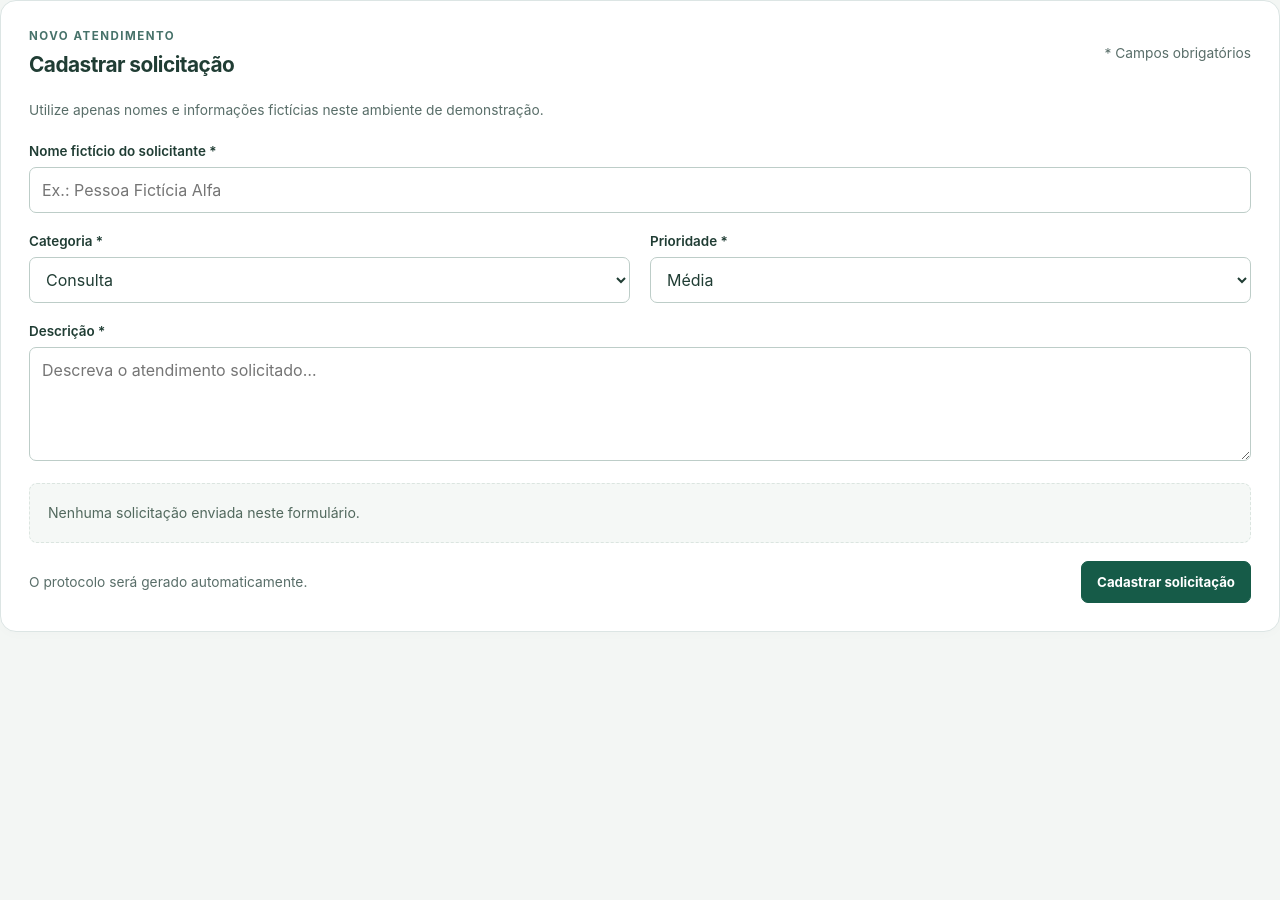
Scenario: SolicitacaoForm › mostra erro 422 junto do campo e preserva valores
Type "Pessoa Fictícia Alfa" into the field labelled "Nome fictício do solicitante *".
click(640, 190); type("Pessoa Fictícia Alfa")  # box [29,167,1251,213]
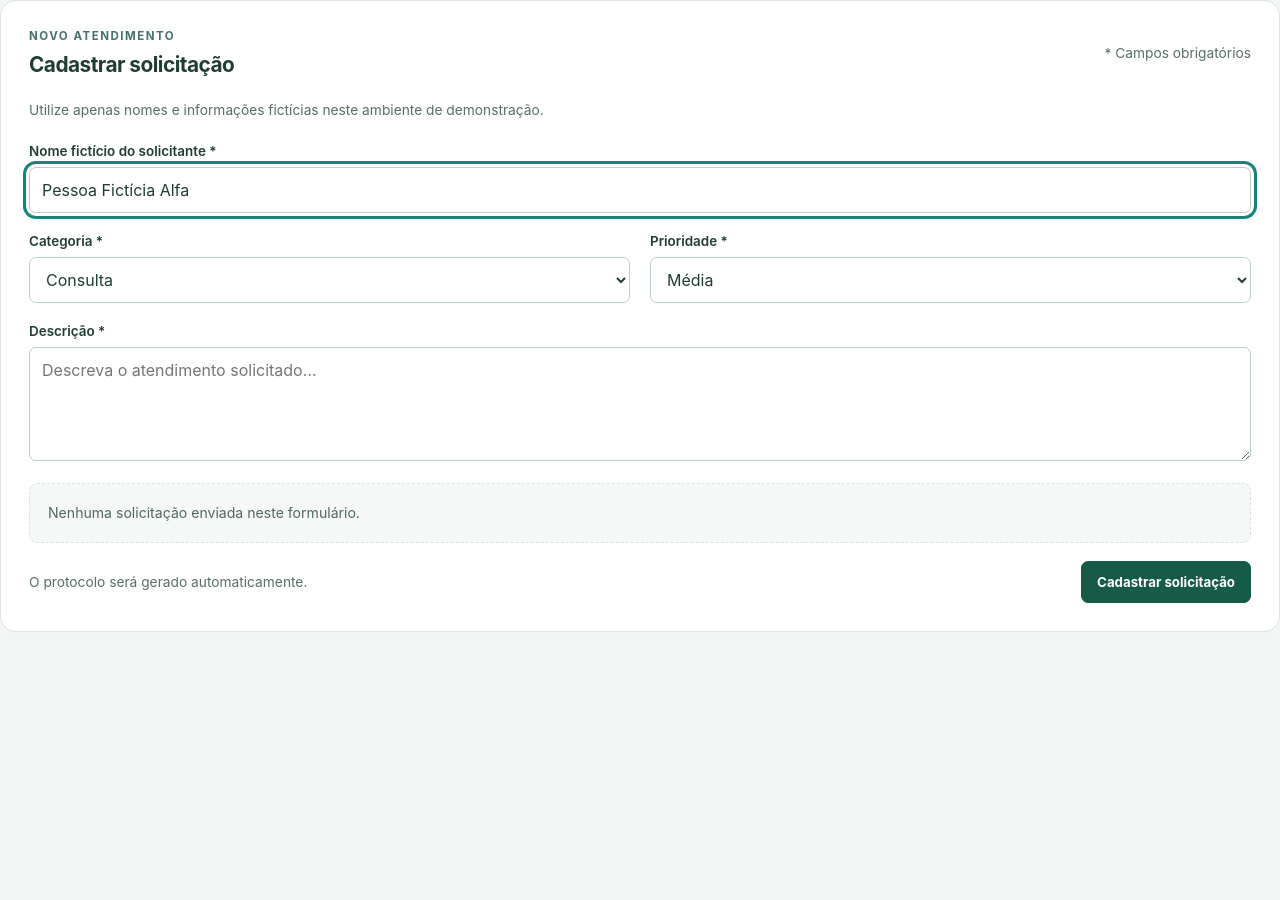
Type "Atendimento fictício." into the text box labelled "Descrição *".
click(640, 404); type("Atendimento fictício.")  # box [29,347,1251,461]
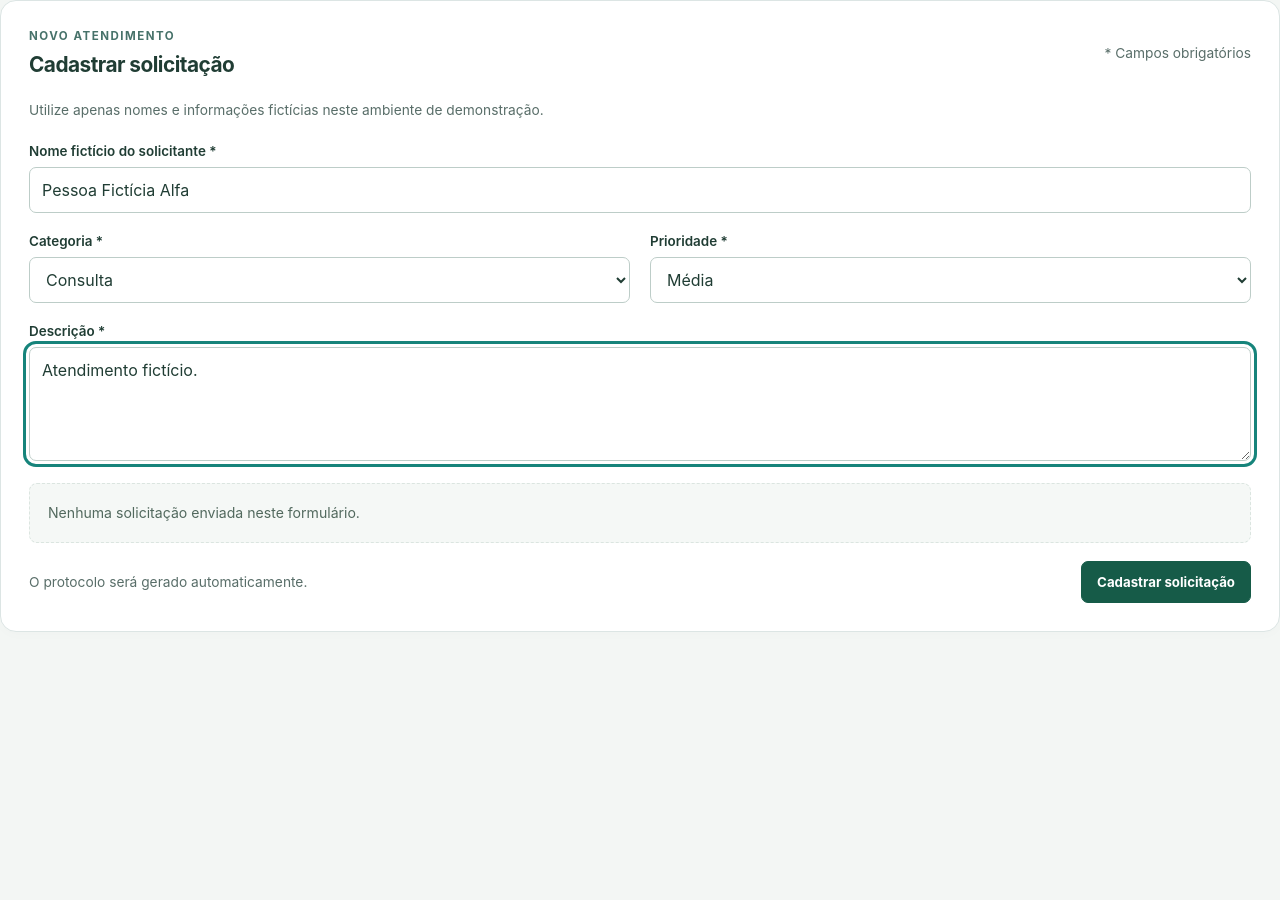
Click the button "Cadastrar solicitação".
click(1166, 582)  # box [1081,562,1251,604]
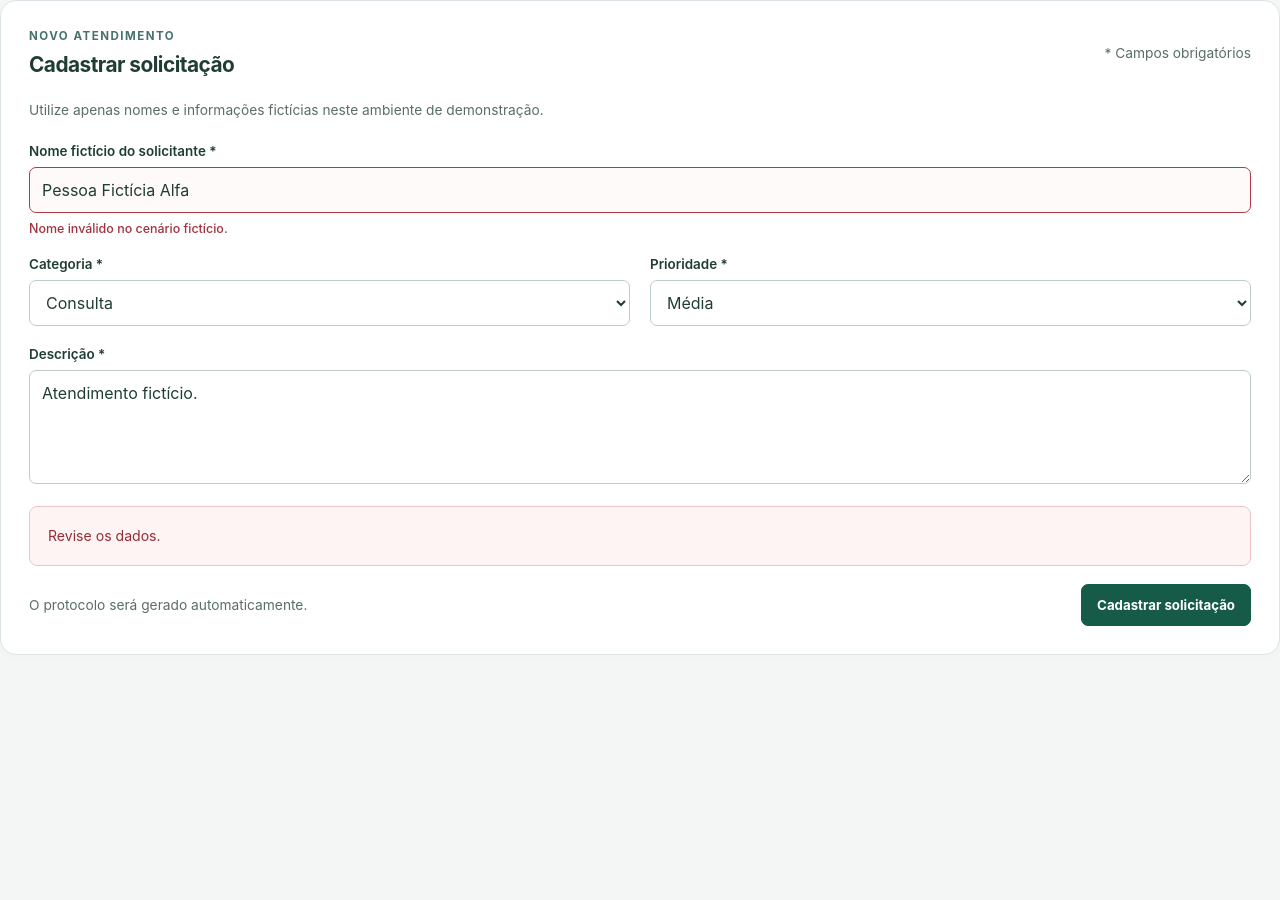
Now the text "Nome inválido no cenário fictício." is shown, box [29,221,228,236]
Now the message reads "Revise os dados.", box [48,527,161,544]
